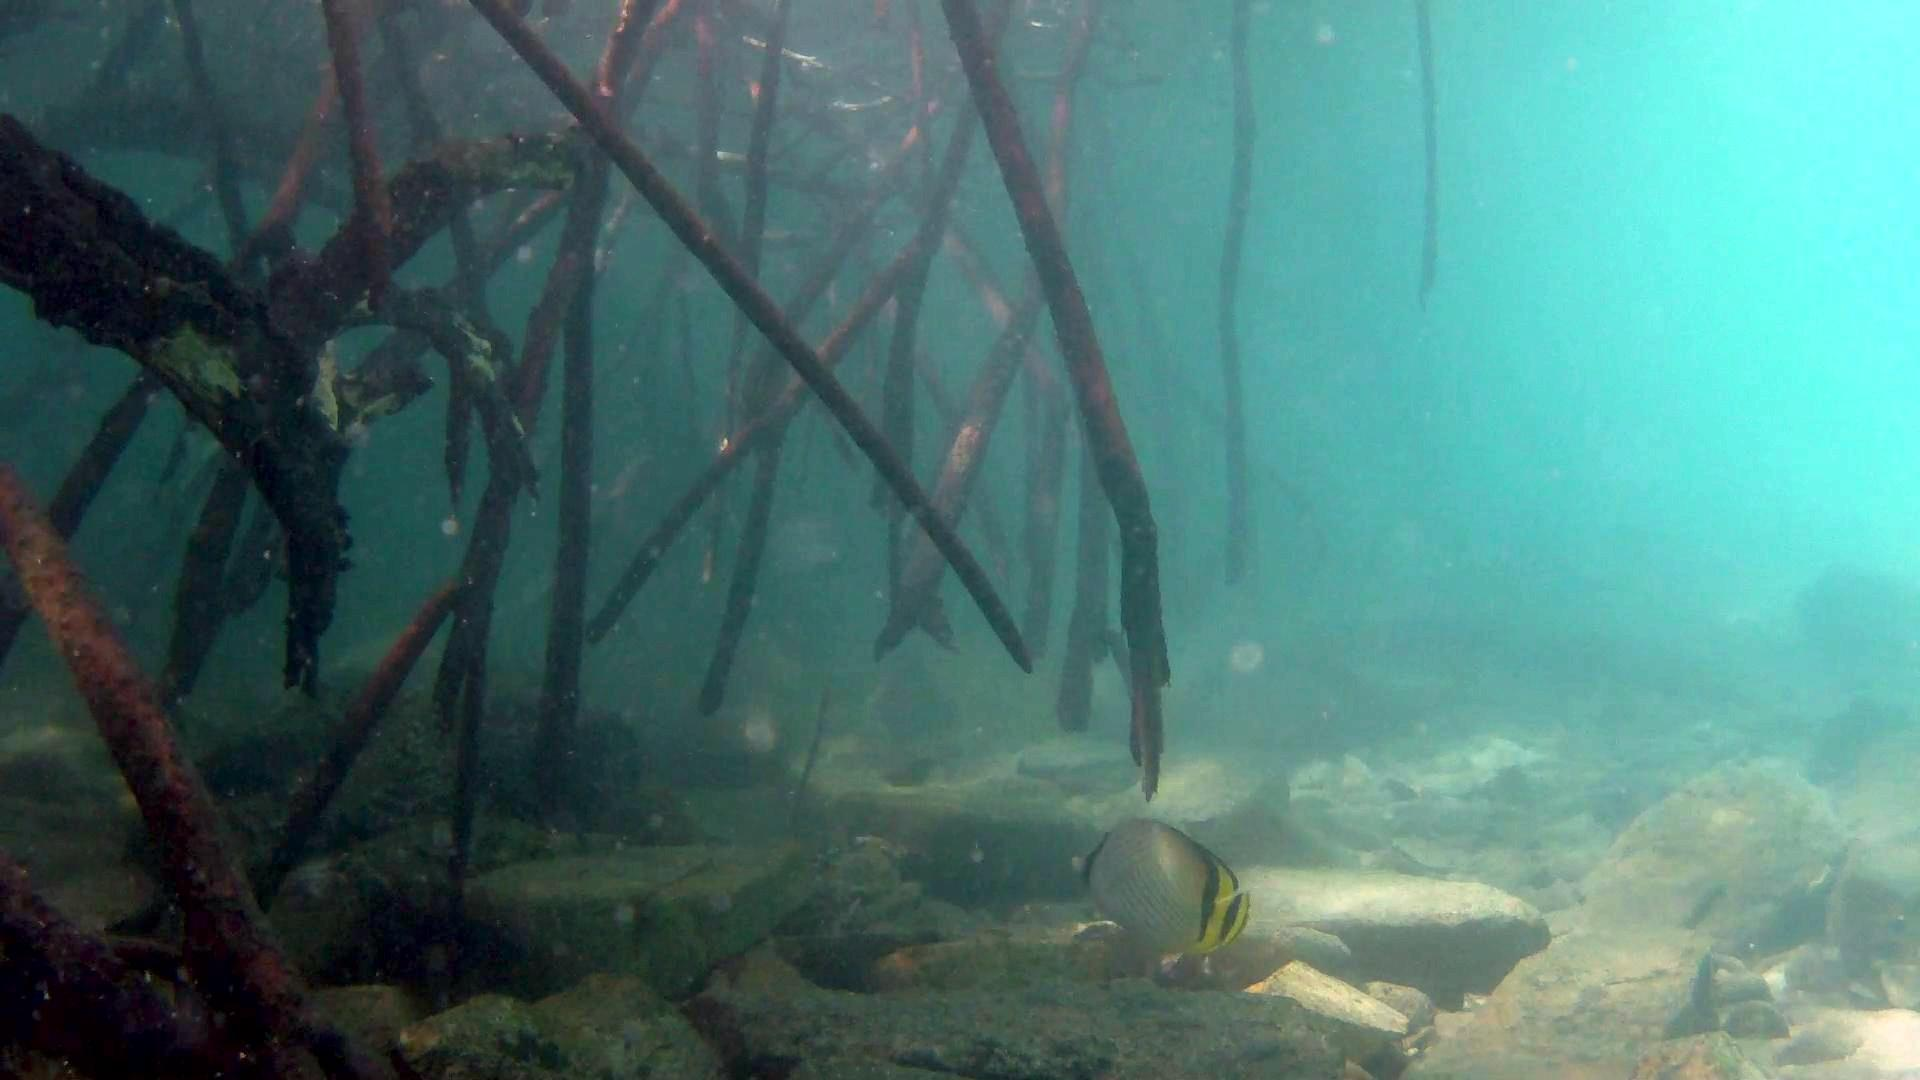chaetodon vagabundus: (1064, 815, 1254, 965)
